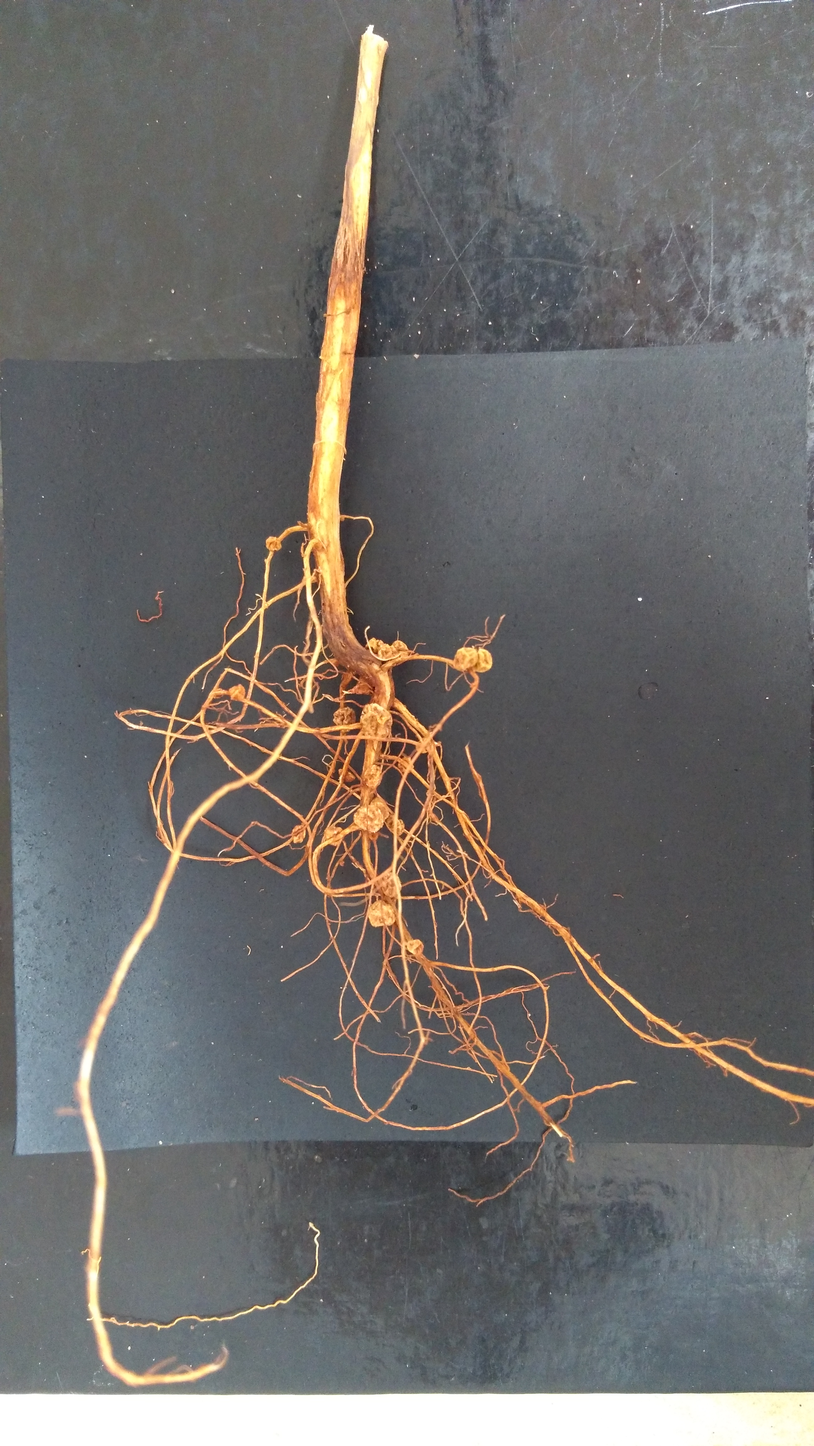nodule: (359, 701, 394, 739), (351, 804, 385, 834), (366, 898, 398, 929), (450, 645, 479, 674), (331, 705, 357, 733), (380, 870, 402, 900), (474, 646, 494, 675), (384, 813, 408, 837), (369, 795, 391, 820), (323, 824, 346, 847), (363, 764, 384, 789), (227, 682, 248, 704), (263, 534, 284, 553), (405, 937, 425, 956), (397, 754, 415, 774), (337, 767, 357, 784), (414, 737, 432, 755), (356, 676, 373, 695), (291, 824, 306, 844), (364, 636, 380, 654), (378, 643, 396, 658), (390, 638, 409, 651)
